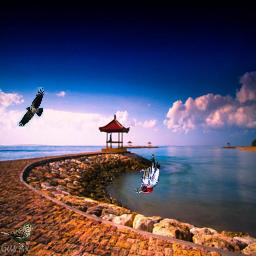Crow: (17, 87, 44, 127)
Sparrow: (1, 222, 34, 251)
Woodpecker: (133, 154, 160, 194)
